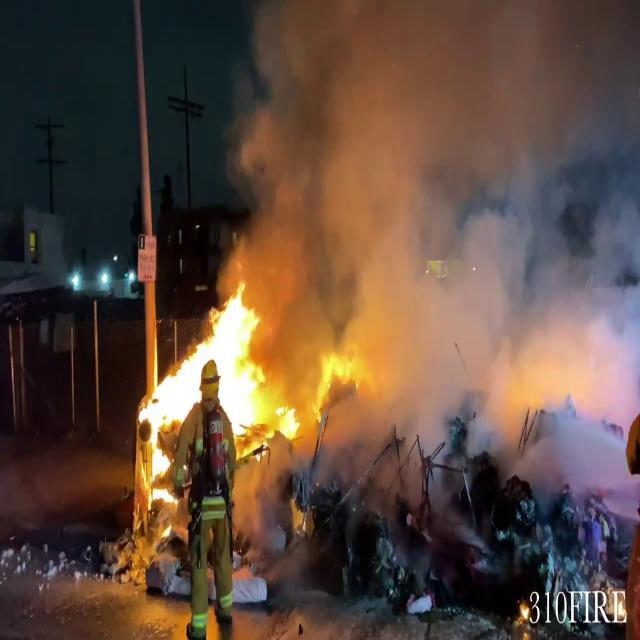Fire: (139, 278, 295, 518)
Smoke: (221, 0, 640, 455)
